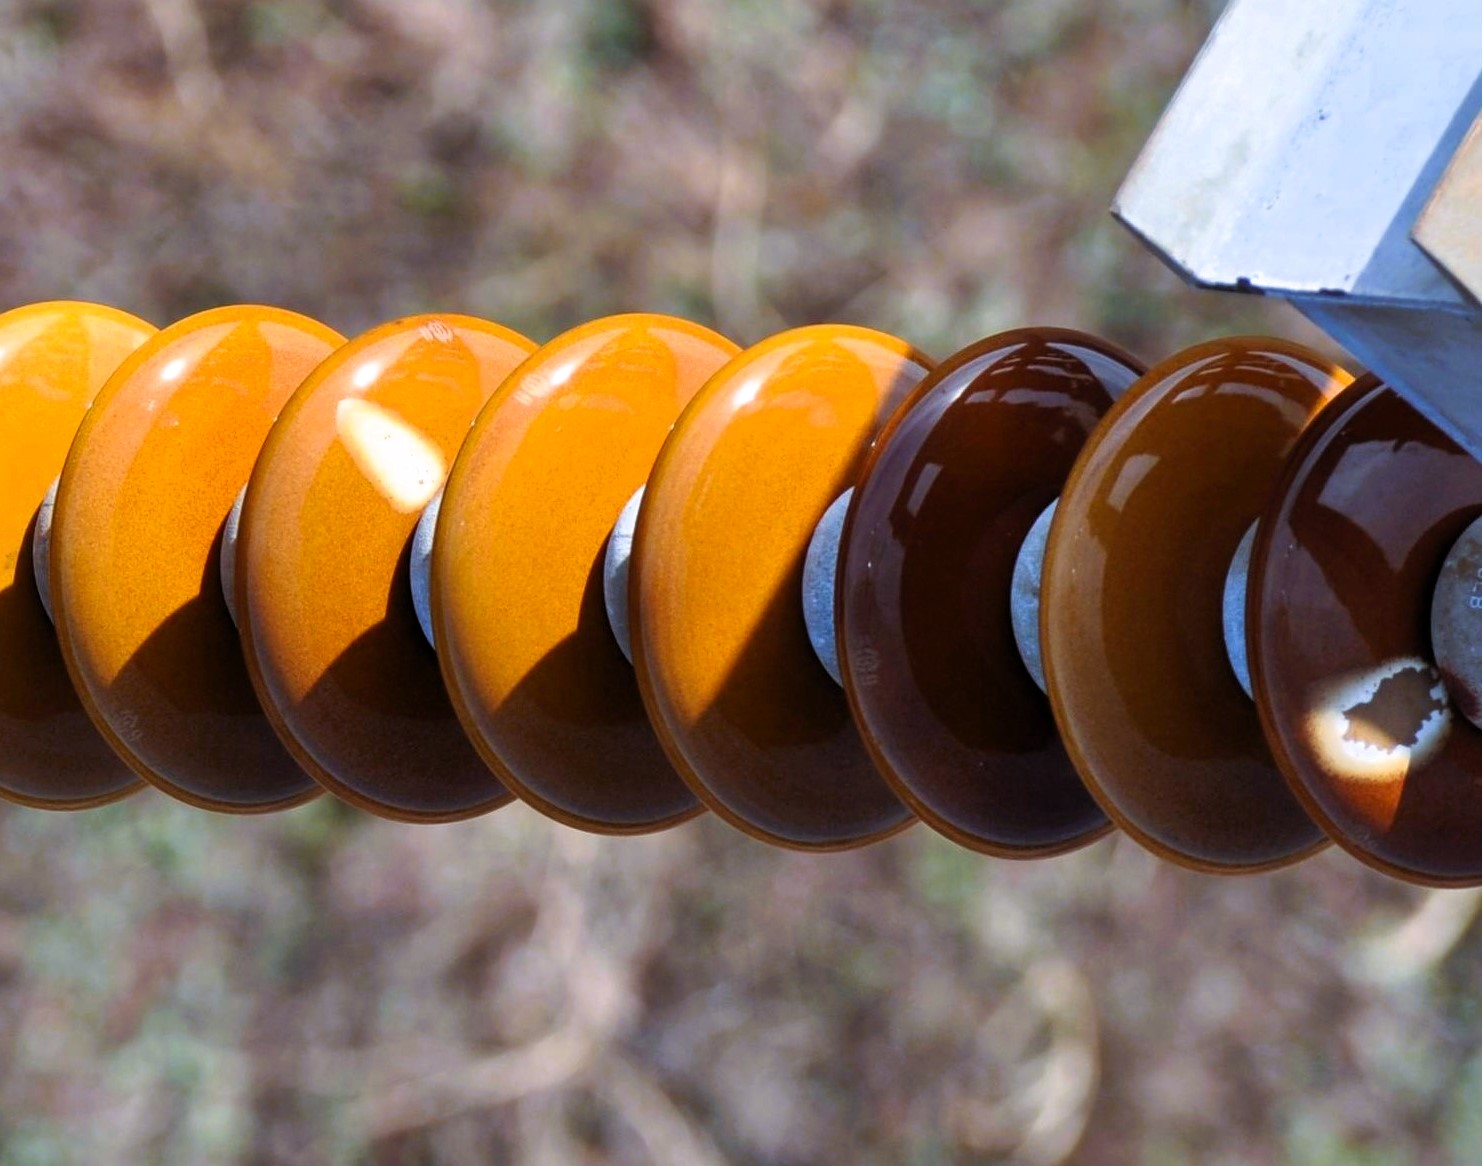Insulator flashover: (237, 298, 538, 831), (1233, 367, 1483, 898)
